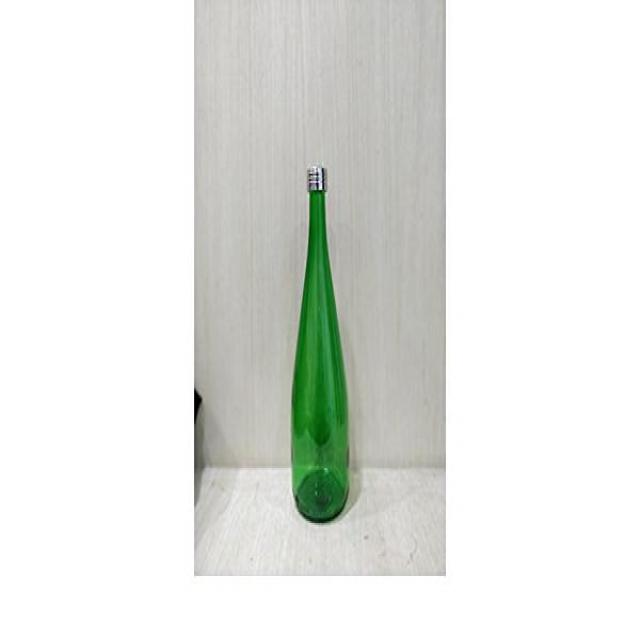non-organic waste: (286, 150, 355, 527)
